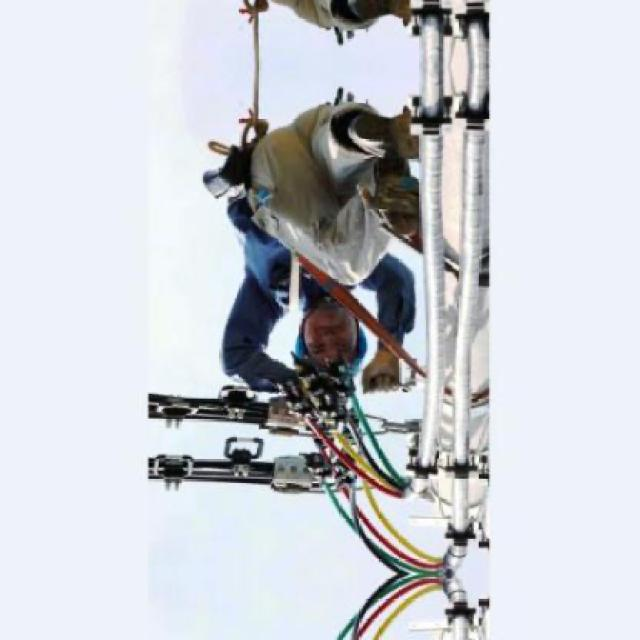con casco: (300, 308, 405, 416)
